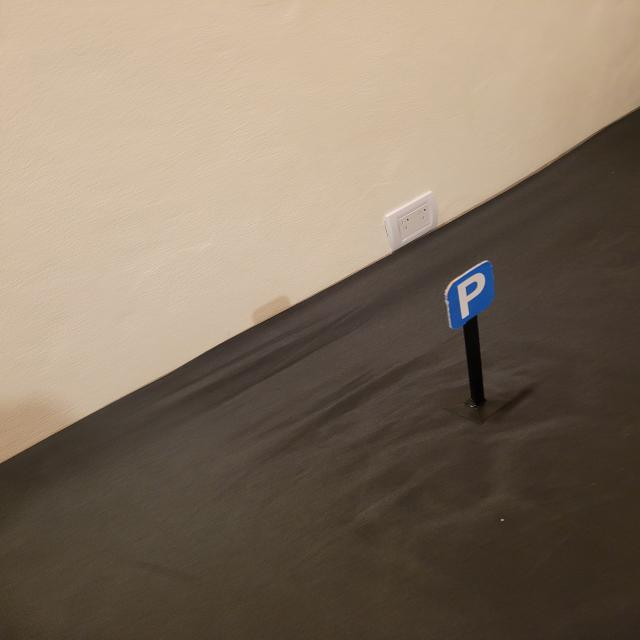parking: (444, 260, 494, 330)
